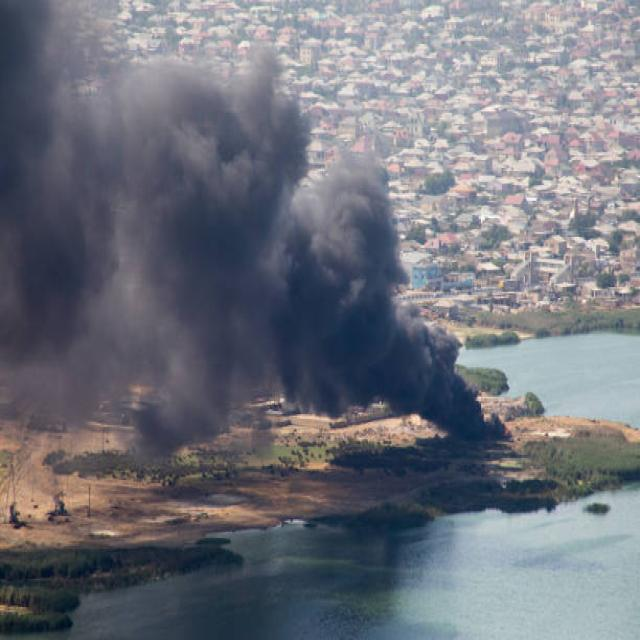Smoke: (0, 0, 509, 448)
